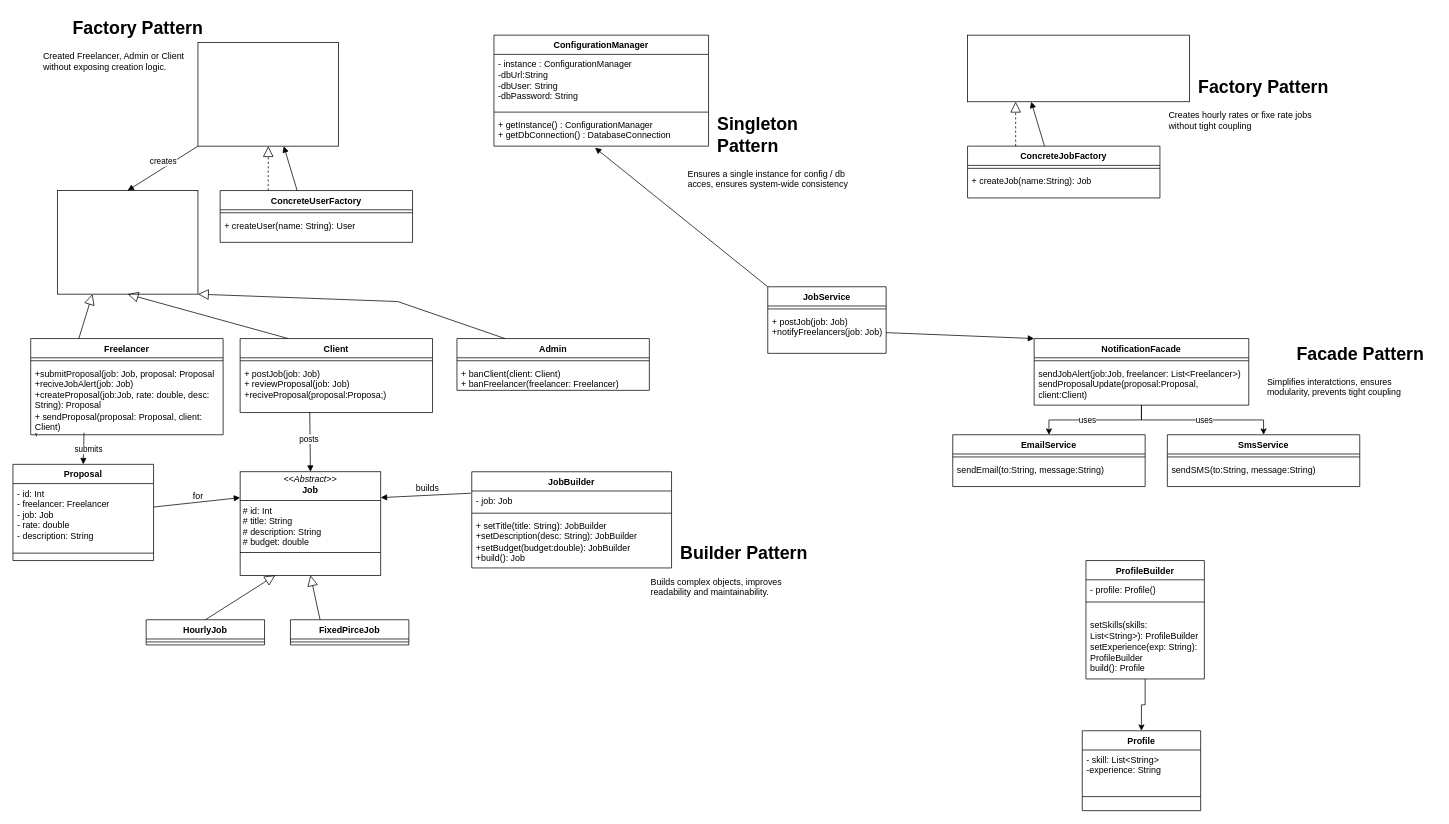
Image size: 1449x824. Some labels were removed from this diagram. Here are the shapes that lost their labels. From the top down, the centre of each, then its label:
At point (1078, 68): "<<Interface>> JobFactory + createJob(type:String, title:String): Job".
At point (268, 94): "<<Interface>> UserFactory + createUser(name: String): User".
At point (127, 242): "<<Abstract>> User #id: Int # name: String + login() + logout()".
